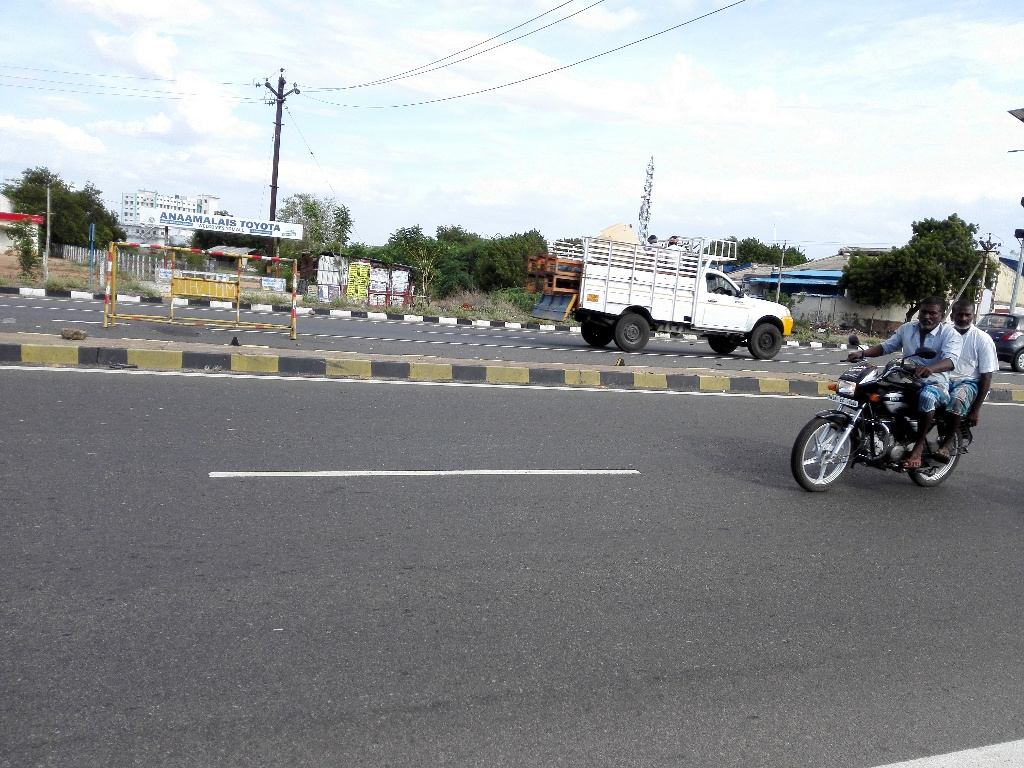biker: (769, 249, 1005, 503)
nohelmet: (907, 287, 948, 341), (951, 296, 983, 340)
